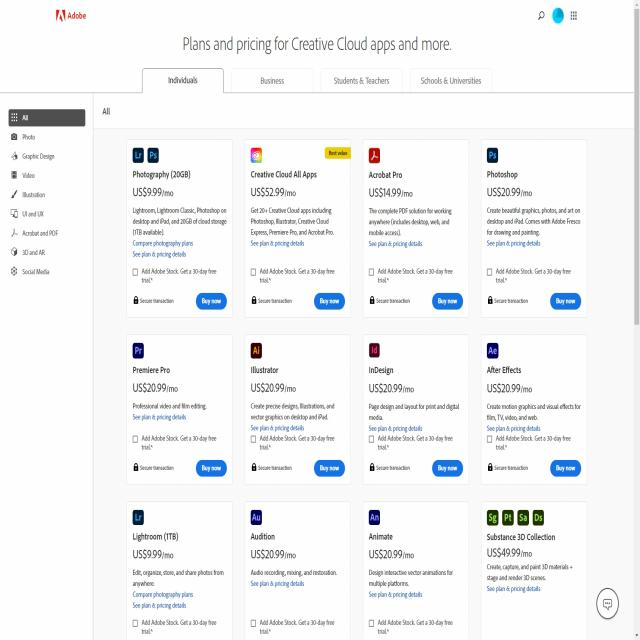menu-panel: (135, 62, 497, 98)
side-panel: (3, 100, 88, 286)
